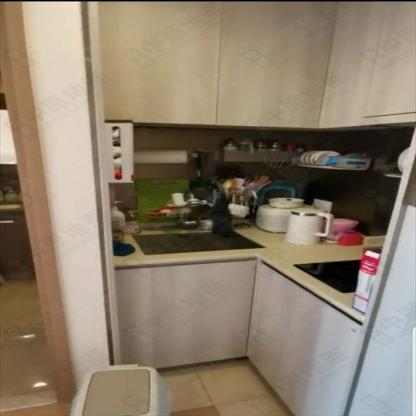Cupboard: (94, 1, 415, 130), (114, 259, 364, 415)
Sink: (128, 233, 267, 257)
